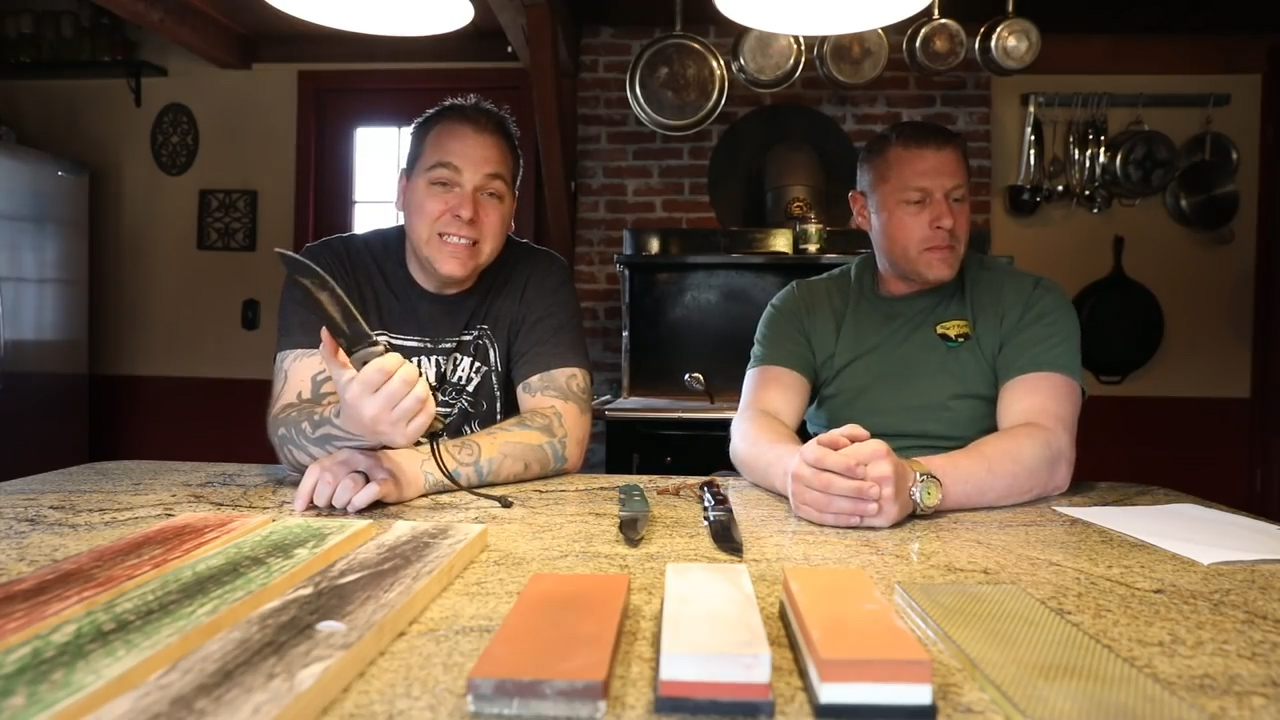knife: (256, 231, 442, 430)
